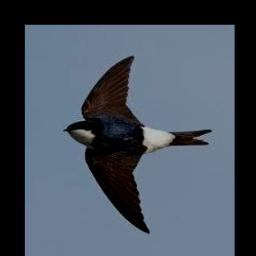Swallow: (62, 55, 213, 232)
